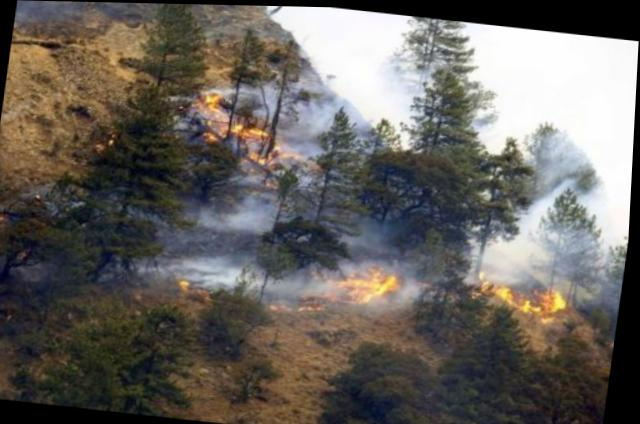fire: (190, 81, 309, 172), (301, 249, 413, 318), (464, 252, 579, 318)
